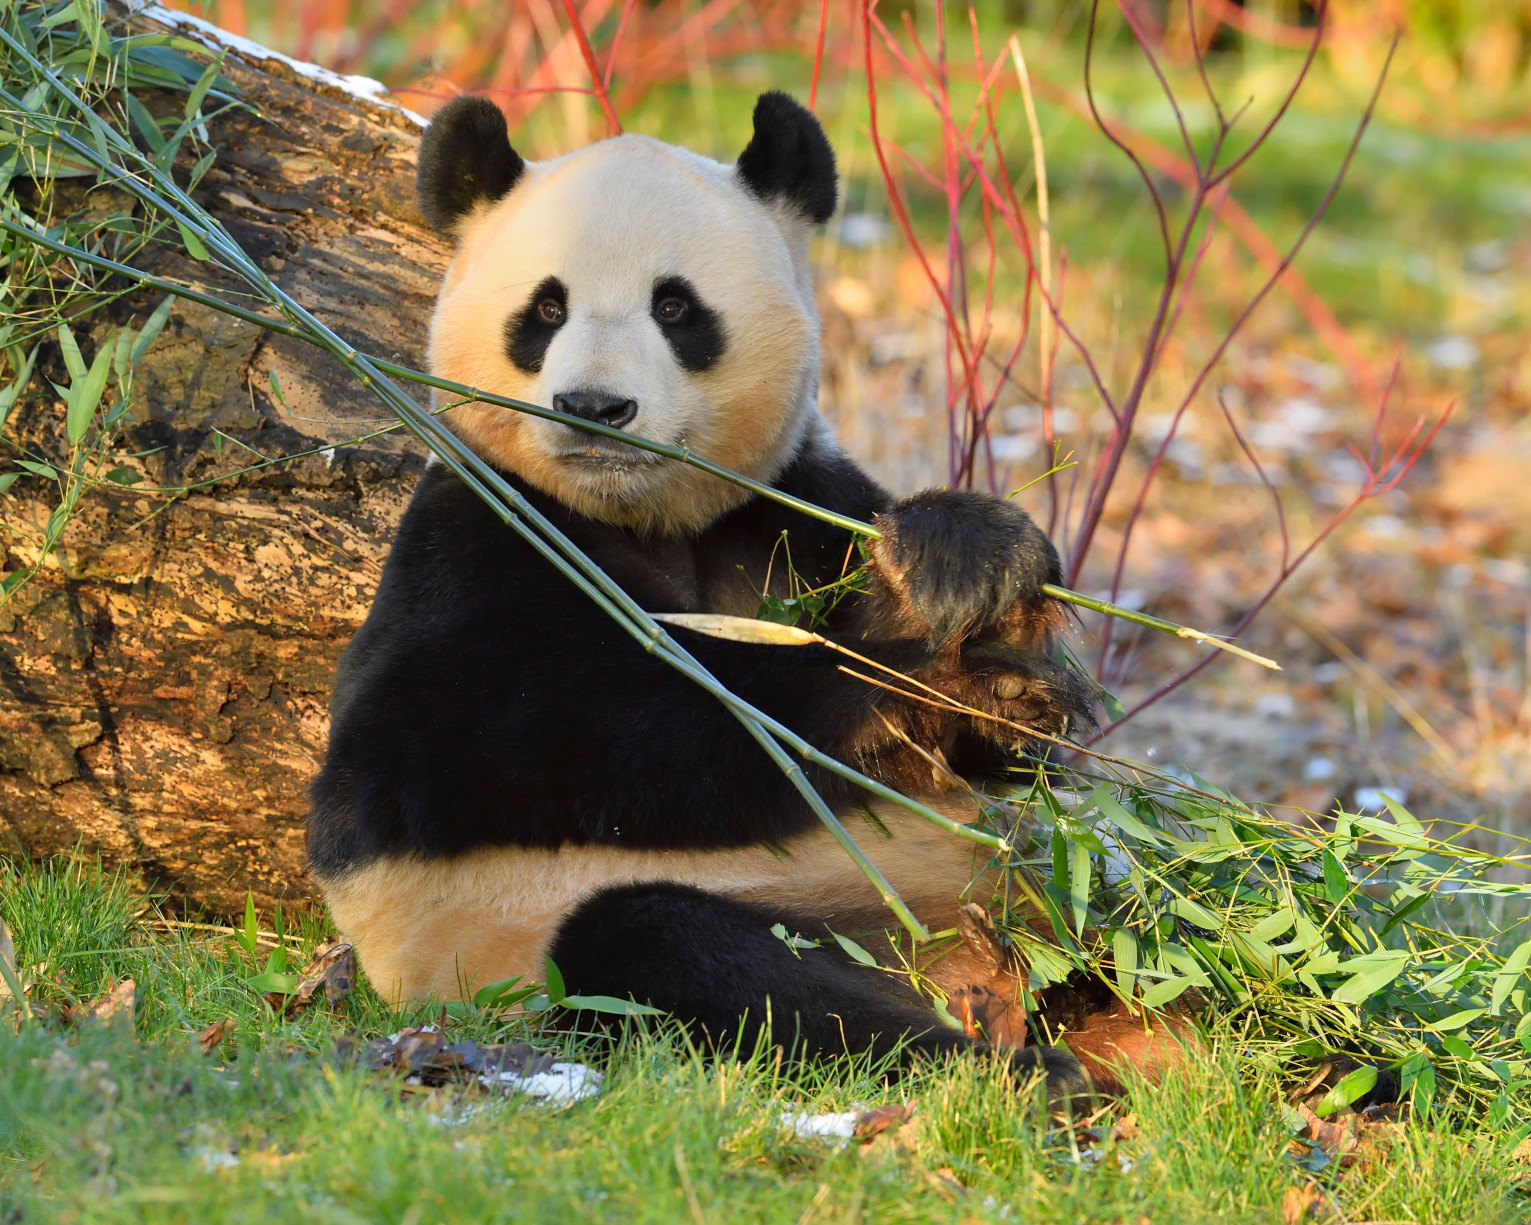Giant panda: (404, 80, 846, 525)
